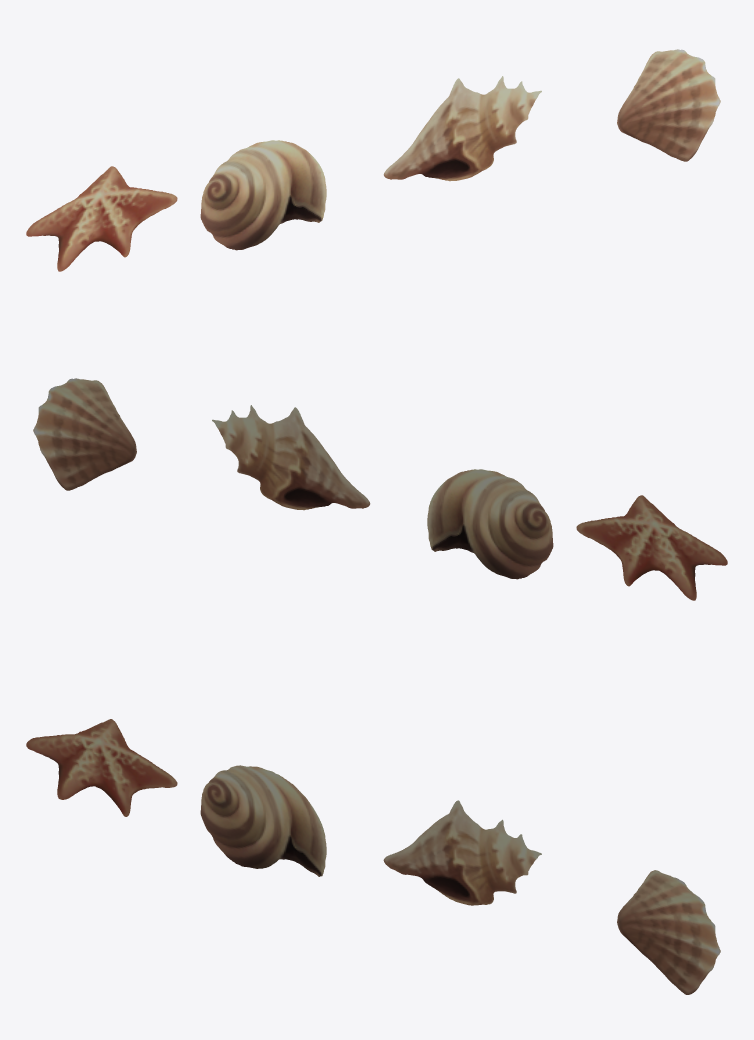
Rendered from Sea Shells.FBX.
3 renders of one model, top to bottom at view 1: azimuth 30°, elevation 25°; view 2: azimuth 150°, elevation 25°; view 3: azimuth 330°, elevation 25°, orthographic.
Visible parts, largest first — view 1: Sea Shell 1, Sea Shell 3, Sea Shell 2, Starfish; view 2: Sea Shell 1, Sea Shell 3, Sea Shell 2, Starfish; view 3: Sea Shell 1, Sea Shell 3, Sea Shell 2, Starfish.
Boxes of the visible parts, x1,y1,x2,y2 form: Sea Shell 1: (200,140,326,250); Sea Shell 3: (383,76,541,181); Sea Shell 2: (617,49,720,161); Starfish: (26,166,177,271); Sea Shell 1: (427,469,553,579); Sea Shell 3: (212,405,370,510); Sea Shell 2: (33,378,136,490); Starfish: (576,495,727,600); Sea Shell 1: (200,765,326,876); Sea Shell 3: (383,800,541,905); Sea Shell 2: (617,870,720,994); Starfish: (26,719,177,816).
Bounding box in the file's own units: 531 × 6.42e-06 × 124.
Materials: 1 (1 with a texture image).
